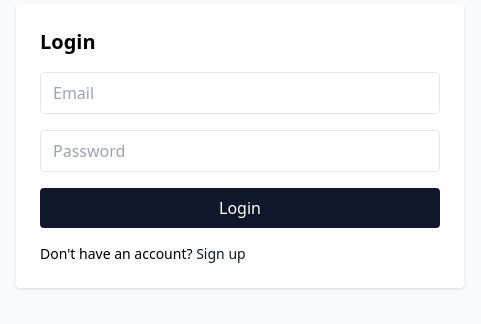
Login › should display error message on login failure
In the field with placeholder "Email": coordinates (240, 93) [40,72,440,114], type "test@example.com"
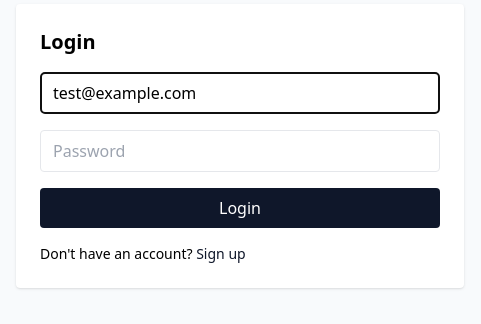
In the password field with placeholder "Password": coordinates (240, 151) [40,130,440,172], type "wrongpassword"
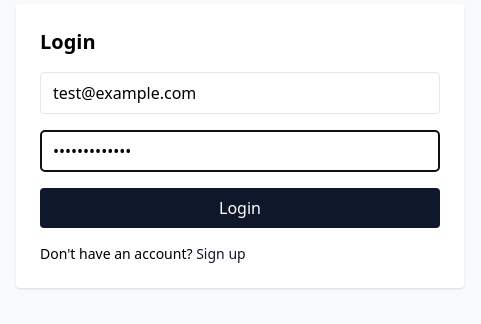
Click the button "Login": coordinates (240, 208) [40,188,440,228]
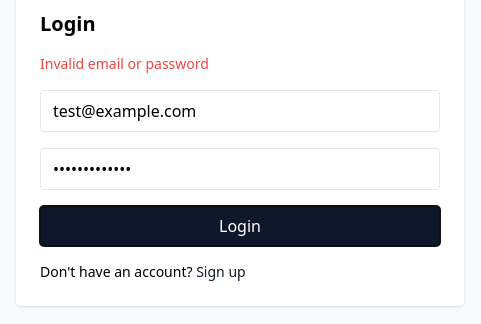
Expected: the text "Invalid email or password" is shown, [40,54,209,73]
